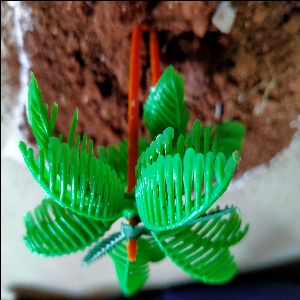plant: (16, 72, 242, 292)
